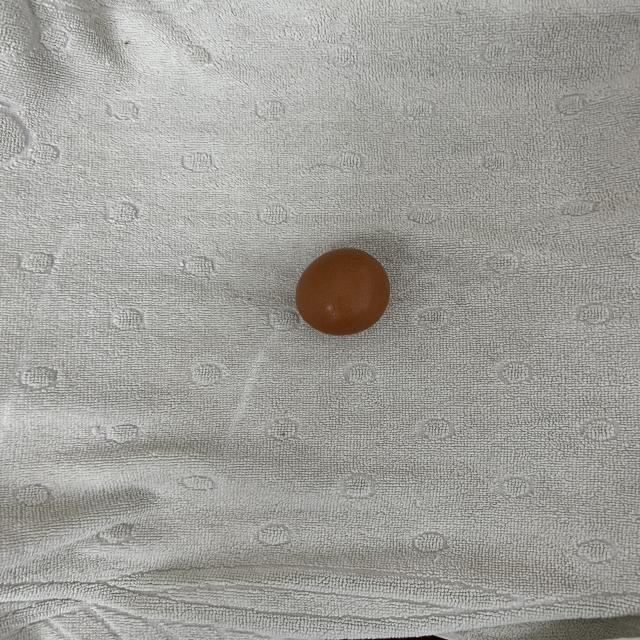Egg: (294, 242, 393, 341)
